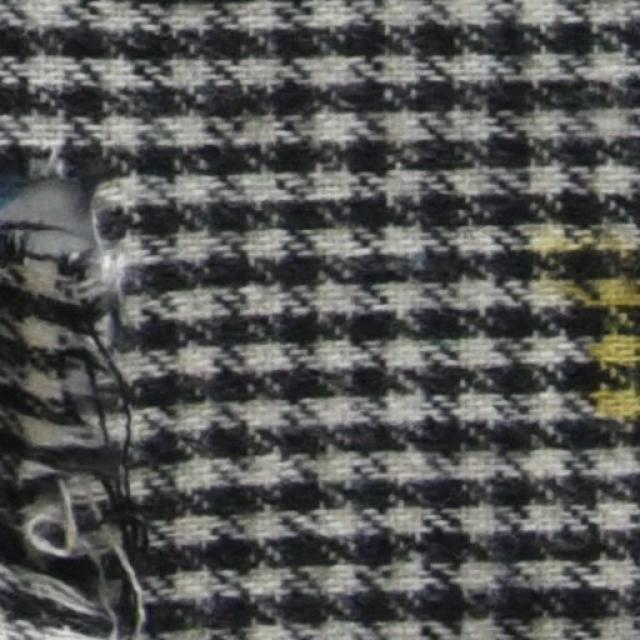Hole: (12, 178, 91, 250)
Snag: (3, 253, 149, 639)
Stain: (530, 190, 639, 451)
